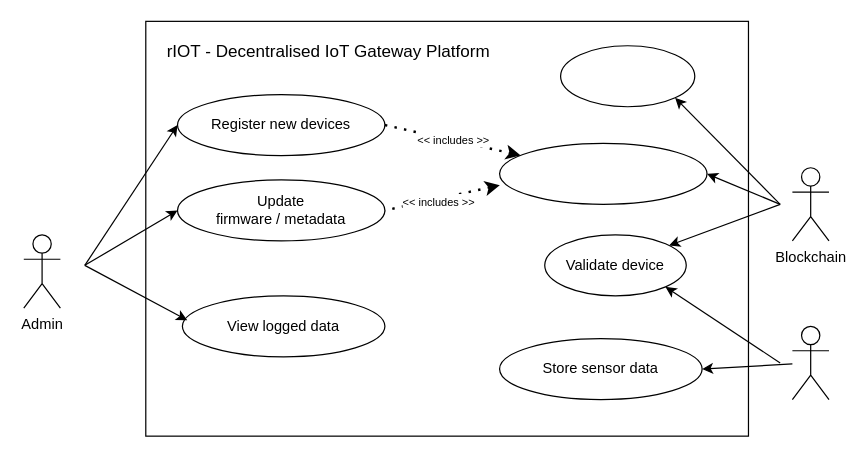
Some shapes in this 866 by 458 pixel diagram are drawn without their labels. Here are the shapes that lost their labels. From the top down, the centre of each, then its label:
At pixel 627 76: "Store Devices".
At pixel 602 173: "Compute rIOT hash".
At pixel 810 362: "IoT device".
